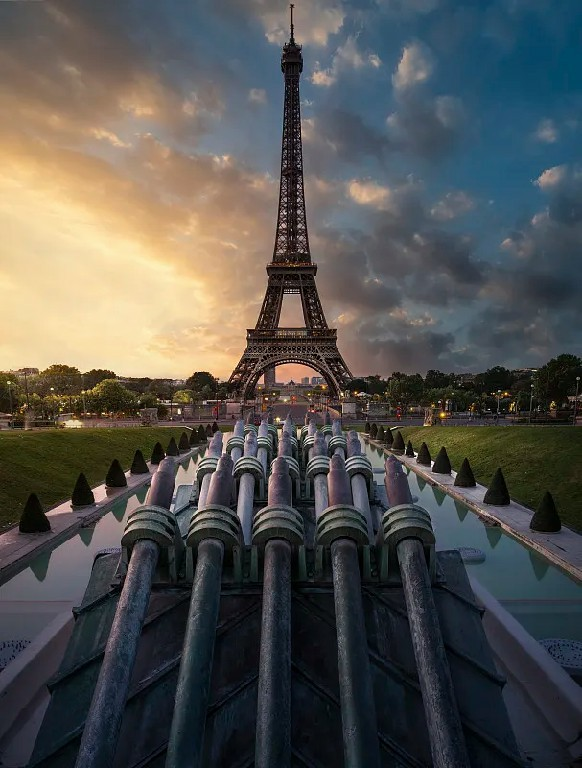Eiffel: (223, 5, 355, 406)
